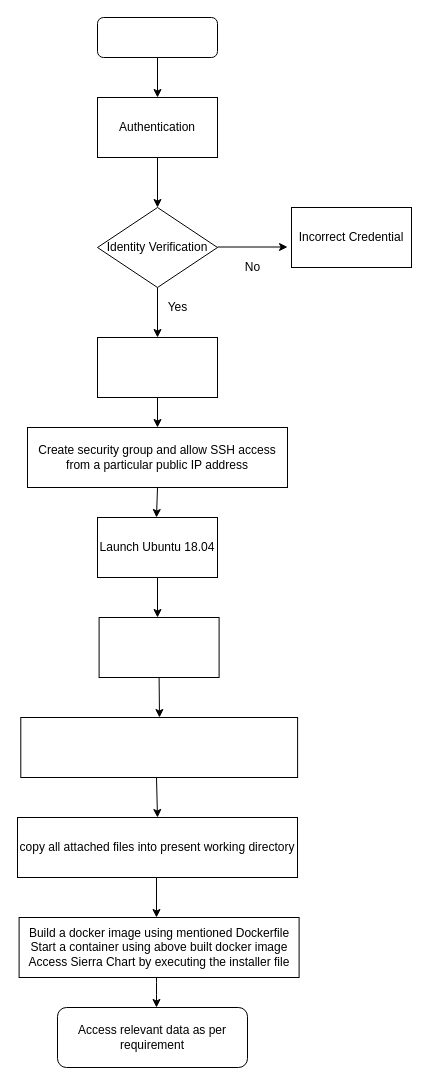
Some shapes in this 429 by 1085 pixel diagram are drawn without their labels. Here are the shapes that lost their labels. From the top down, the centre of each, then its label:
At point 157,37: "AWS Management Console Sign In".
At point 157,367: "EC2 Launch Wizard".
At point 158,647: "Install docker on Ubuntu server".
At point 159,747: "Create a user named dockeruser Allow dockeruser to run docker as non-root user".
